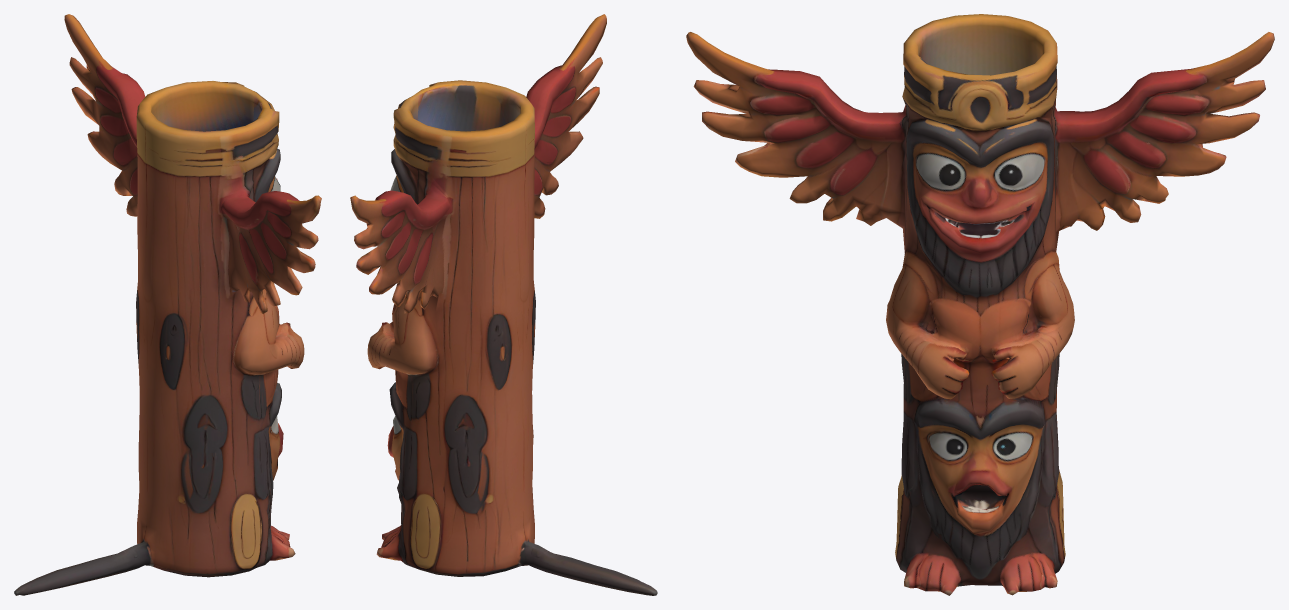
The model's file is Totem_Pole.fbx.
3 renders of one model, left to right at view 1: azimuth 30°, elevation 25°; view 2: azimuth 150°, elevation 25°; view 3: azimuth 270°, elevation 25°, orthographic. The views are drawn at different scales.
Visible parts, largest first — view 1: tripo_node_00a44651; view 2: tripo_node_00a44651; view 3: tripo_node_00a44651.
Boxes of the visible parts, x1,y1,x2,y2 form: tripo_node_00a44651: (14, 14, 321, 595); tripo_node_00a44651: (350, 14, 657, 595); tripo_node_00a44651: (686, 14, 1274, 595).
Bounding box in the file's own units: 62.29 × 97.46 × 99.84.
Materials: 1 (1 with a texture image).
